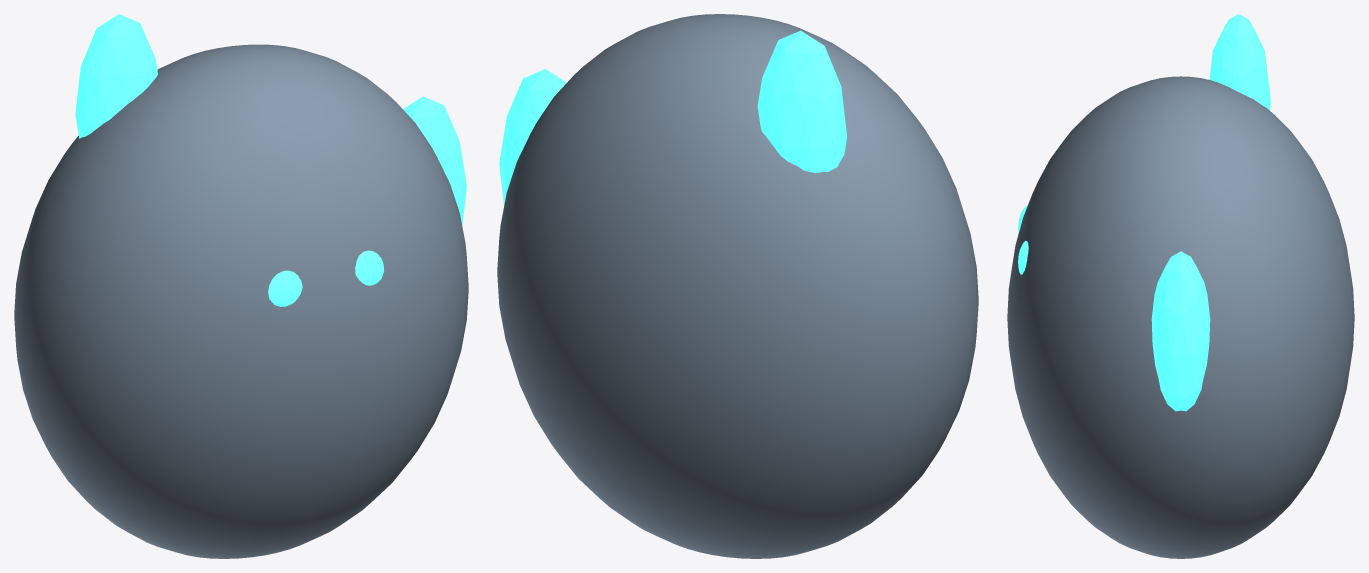
Rendered from ooze.glb.
3 views of the same model, side by side, from view 1: azimuth 30°, elevation 25°; view 2: azimuth 150°, elevation 25°; view 3: azimuth 270°, elevation 25° (orthographic). The views are drawn at different scales.
Parts seen in each view (by area): view 1: CORE_BODY_PRIMARY, ENERGY_SHARD_EMISSIVE.001, ENERGY_SHARD_EMISSIVE, EYE_EMISSIVE, EYE_EMISSIVE.001; view 2: CORE_BODY_PRIMARY, ENERGY_SHARD_EMISSIVE.001, ENERGY_SHARD_EMISSIVE; view 3: CORE_BODY_PRIMARY, ENERGY_SHARD_EMISSIVE, ENERGY_SHARD_EMISSIVE.001.
Part boxes in pixels (box(x1,y1,x2,y2)): CORE_BODY_PRIMARY: box(14, 44, 468, 558); ENERGY_SHARD_EMISSIVE.001: box(75, 14, 157, 138); ENERGY_SHARD_EMISSIVE: box(403, 96, 466, 225); EYE_EMISSIVE: box(268, 270, 302, 306); EYE_EMISSIVE.001: box(355, 250, 384, 285); CORE_BODY_PRIMARY: box(497, 14, 978, 558); ENERGY_SHARD_EMISSIVE.001: box(757, 30, 846, 173); ENERGY_SHARD_EMISSIVE: box(499, 69, 566, 205); CORE_BODY_PRIMARY: box(1007, 76, 1354, 558); ENERGY_SHARD_EMISSIVE: box(1151, 251, 1210, 411); ENERGY_SHARD_EMISSIVE.001: box(1209, 14, 1270, 109).
Bounding box in the file's own units: 1.69 × 2.01 × 1.3.
